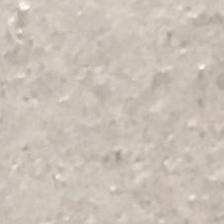Non_Crack: (31, 37, 219, 200)
